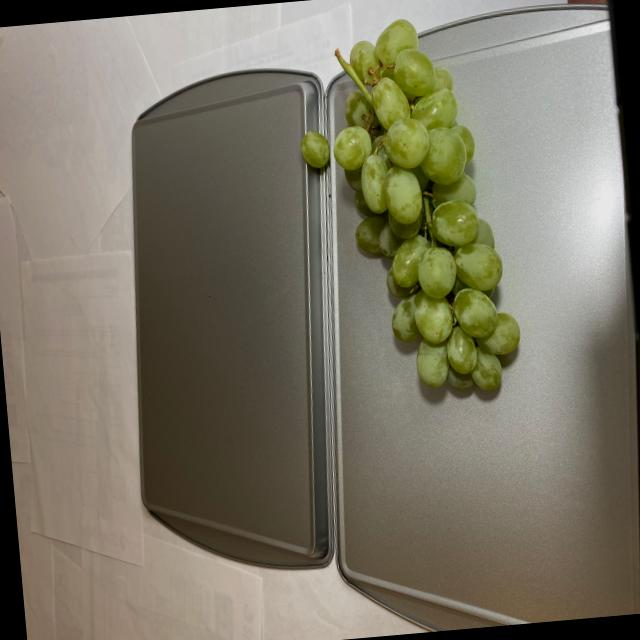grapes: (327, 11, 520, 404), (297, 128, 333, 171)
